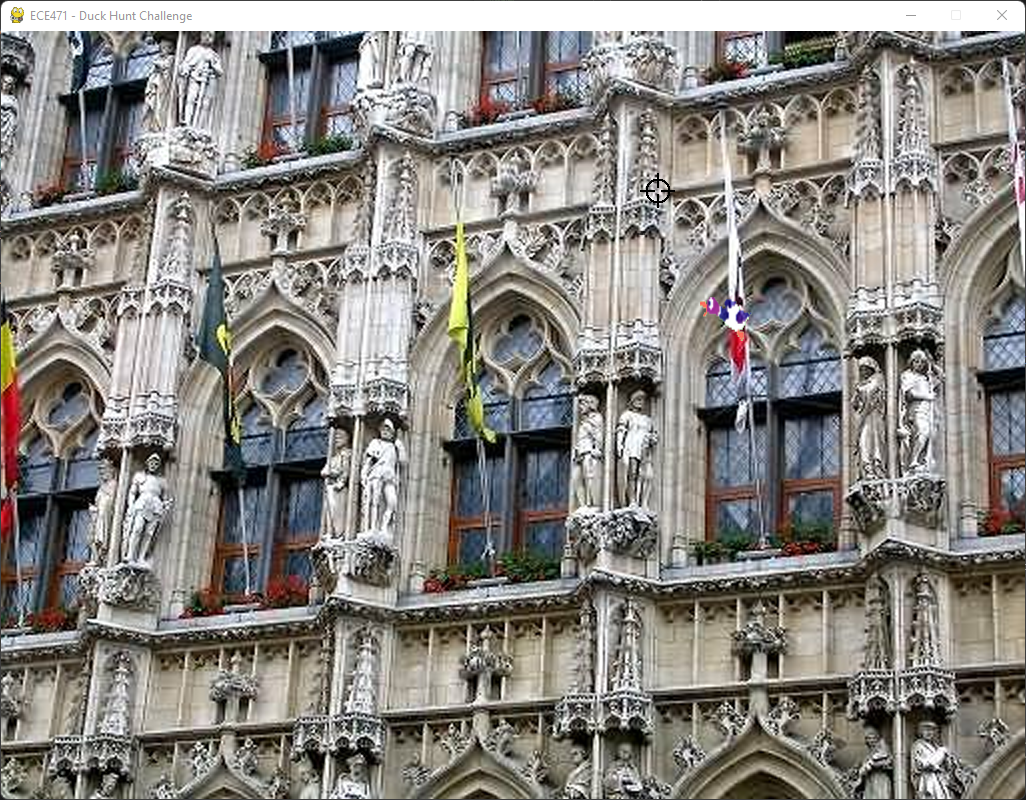blue: (690, 285, 758, 346)
